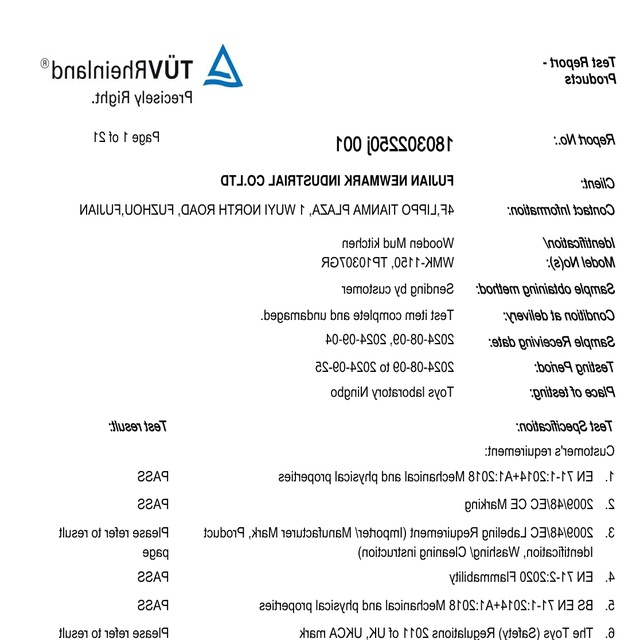tuv_rheinland: (41, 46, 245, 91)
